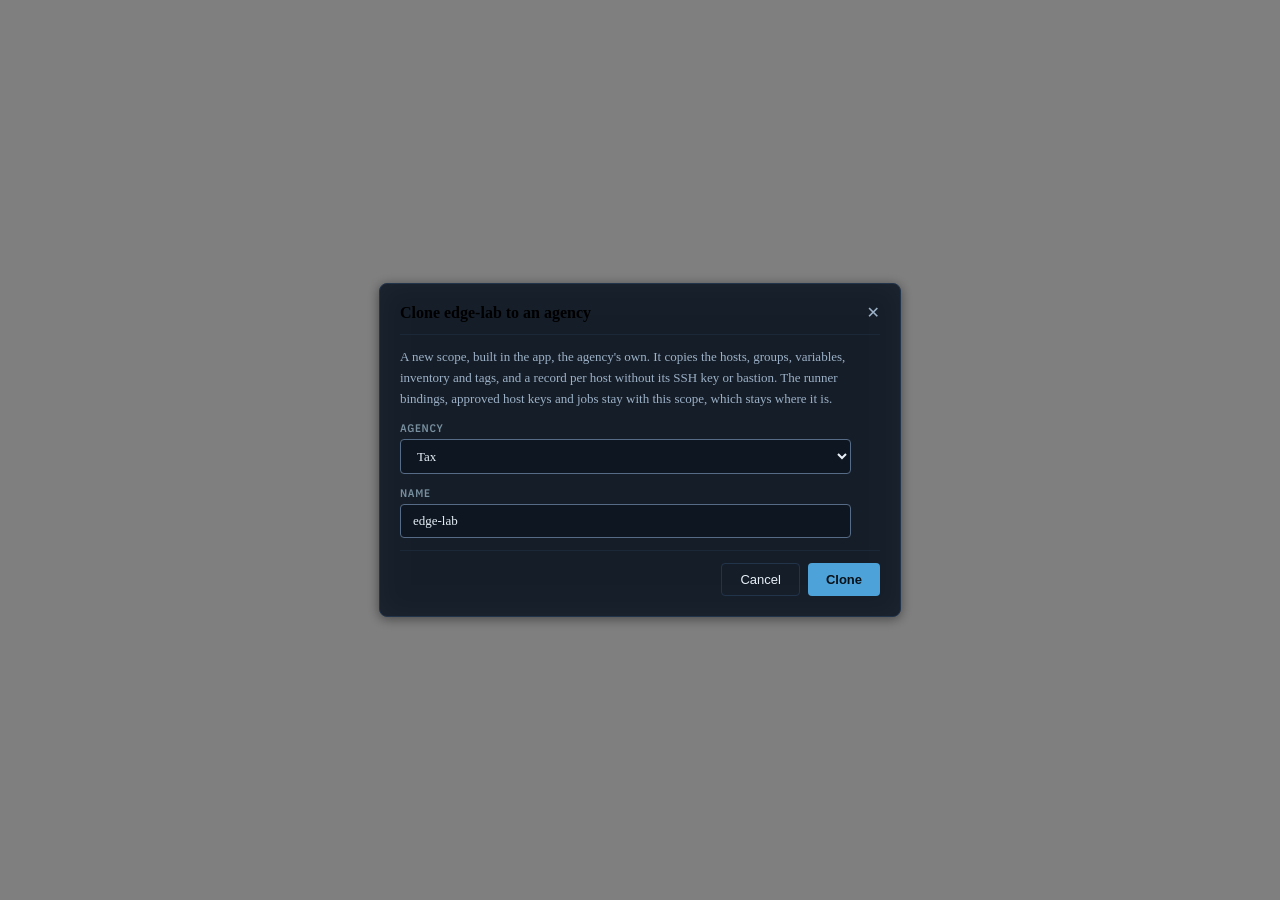
Test case: Clone to an agency › offers a global administrator every other agency, never Global, and says why a clone is refused
The image size is (1280, 900).
Select "Tax" in the dropdown named "Clone to agency": (626, 457) [400,439,851,474]
Click the button "Clone": (844, 580) [808,563,880,596]
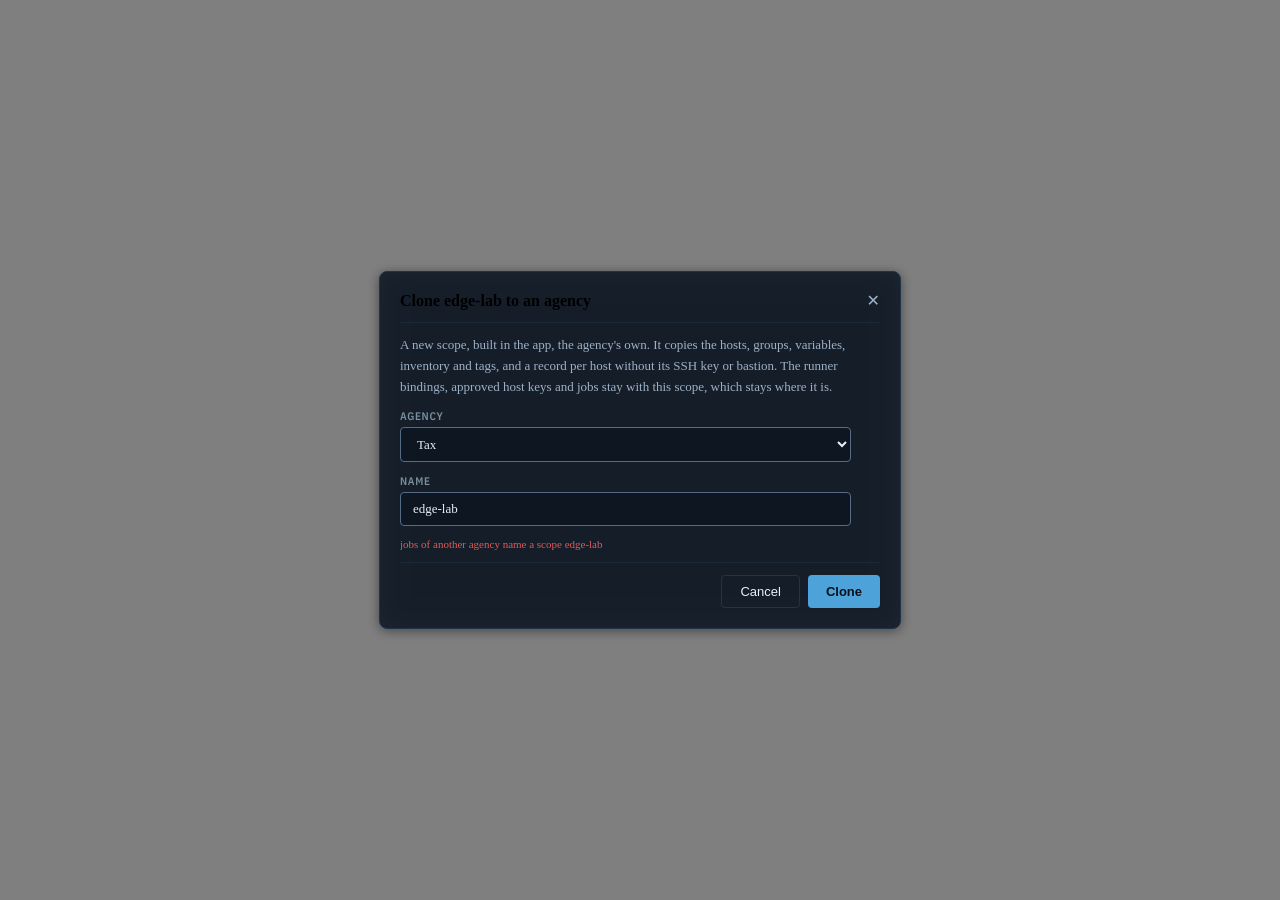
Expected: the message shows "jobs of another agency name a scope", [400,538,602,550]
